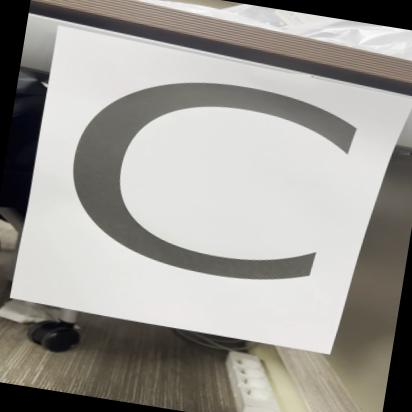seat: (14, 24, 394, 357)
